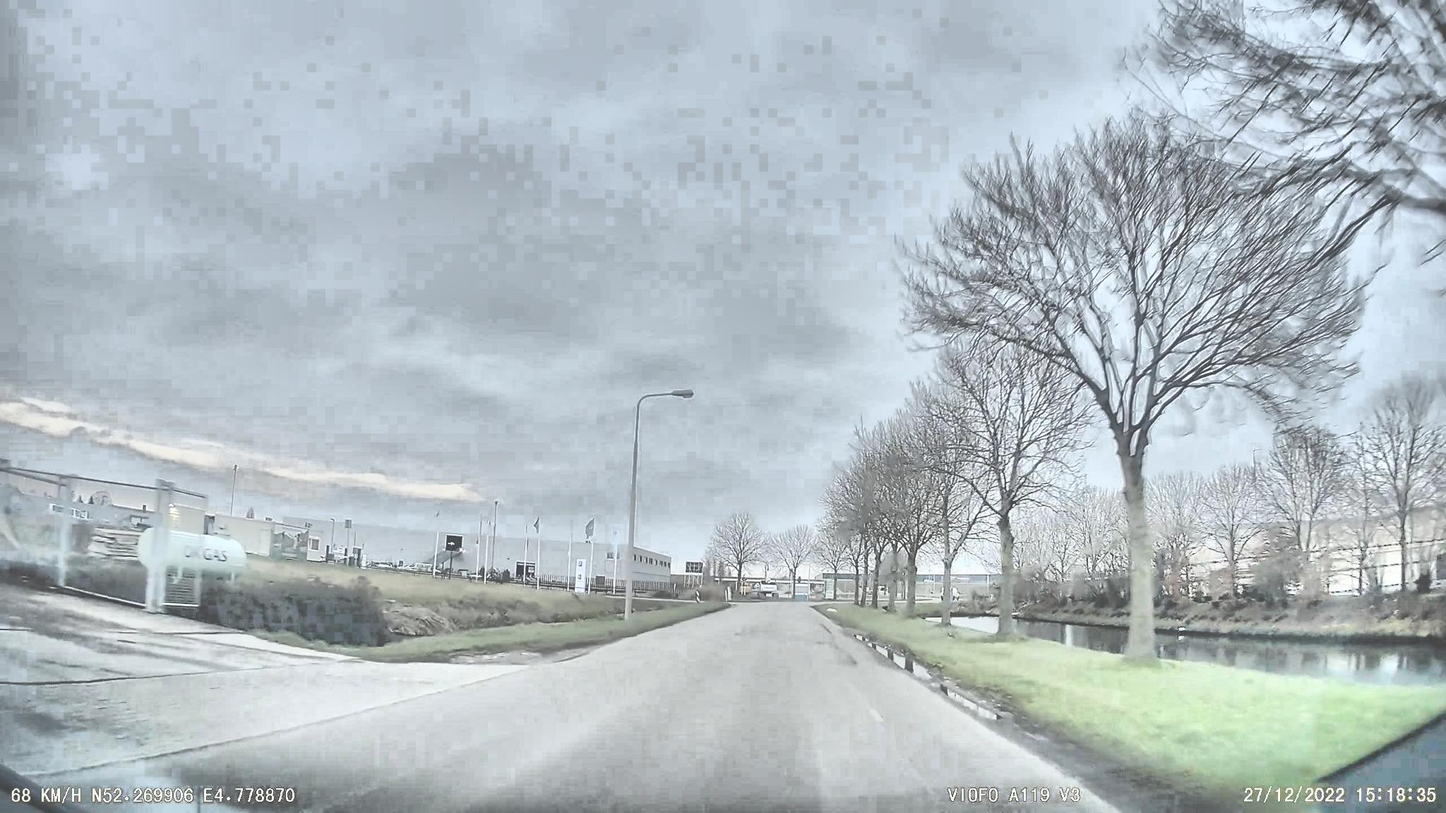Roads: (0, 587, 1231, 813)
